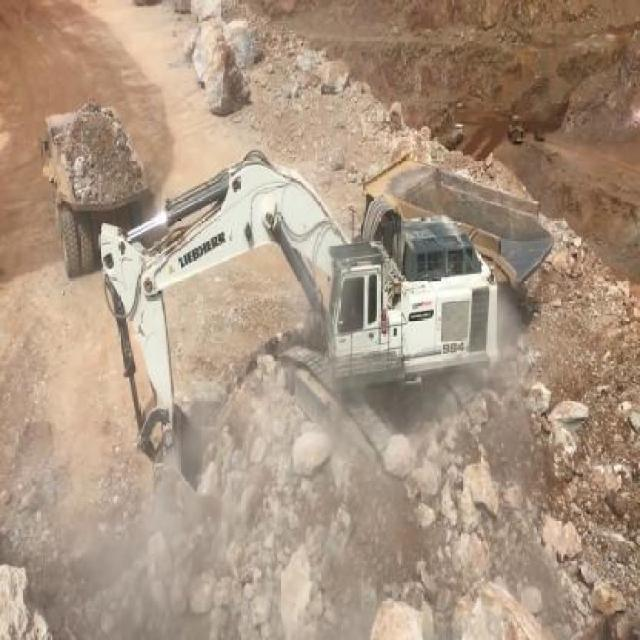dump_truck: (359, 150, 555, 312), (37, 101, 148, 277)
excavator: (106, 148, 497, 490)
